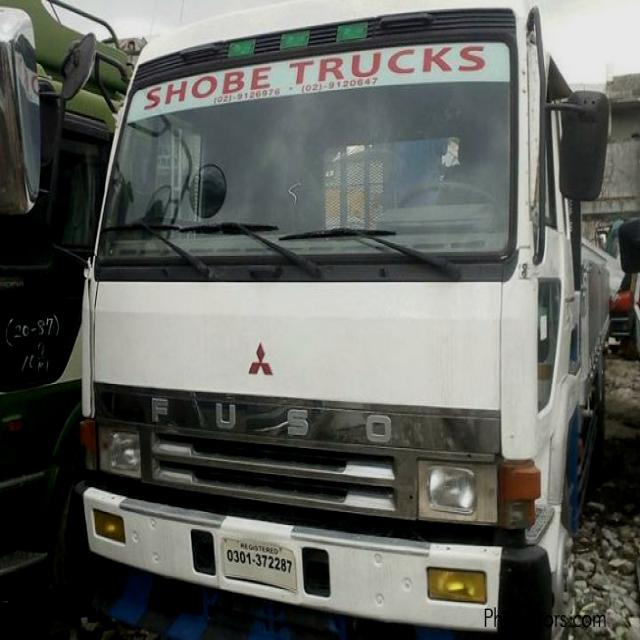truck: (81, 1, 617, 640)
